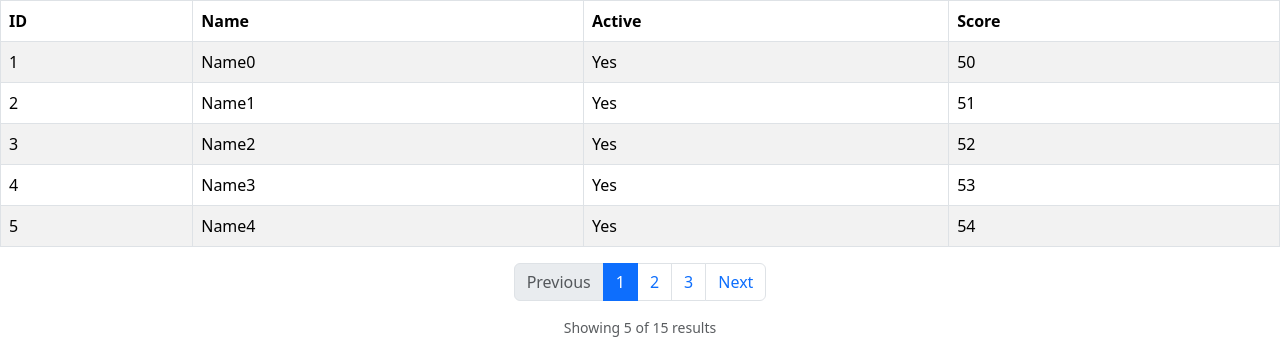
Test: SimpleTable › Pagination › should disable next button on last page
Go to last page
Step 1. Click the button "Next" → (736, 282), box left=705, top=263, right=766, bottom=301
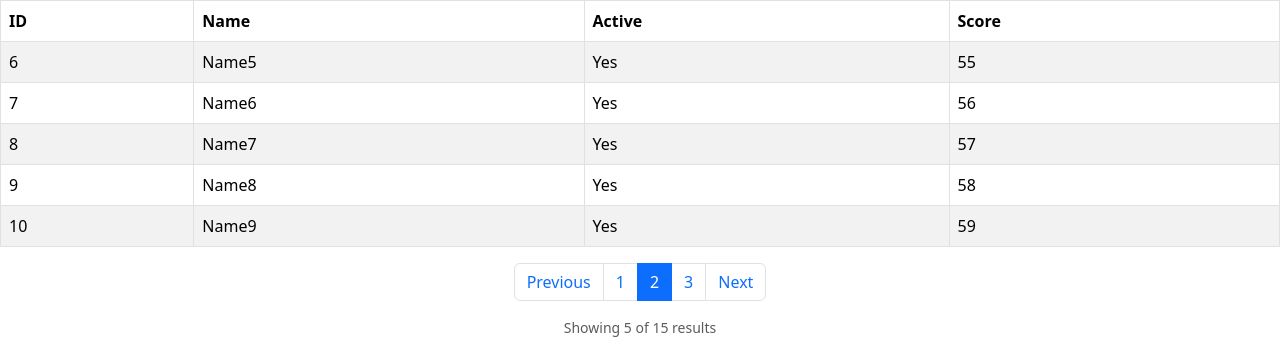
Step 2. Click the button "Next" → (736, 282), box left=705, top=263, right=766, bottom=301
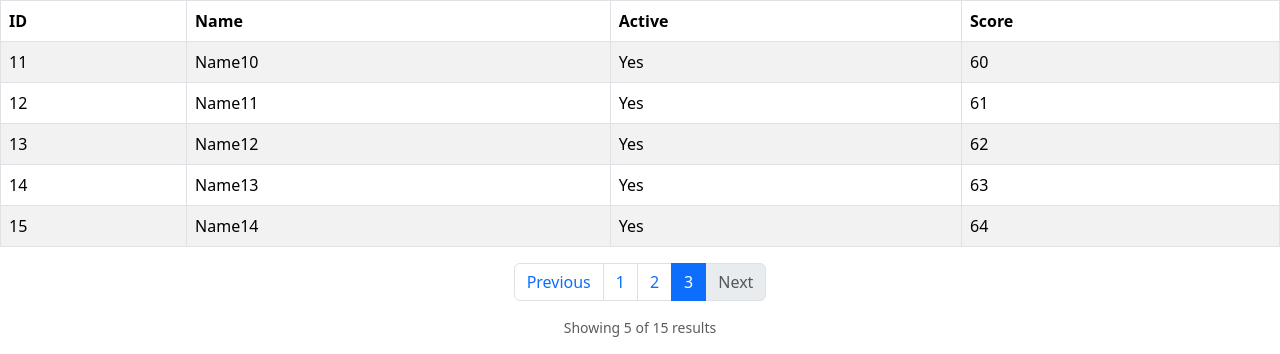
Check: the button "Next" is disabled, box left=705, top=263, right=766, bottom=301
